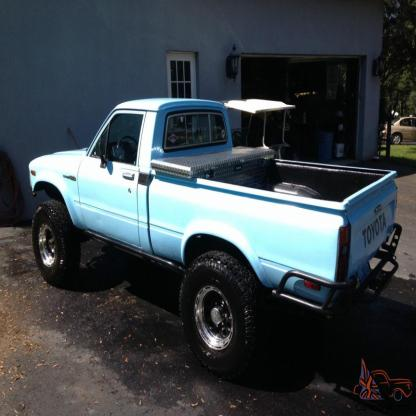light_vehicle: (33, 90, 400, 382)
